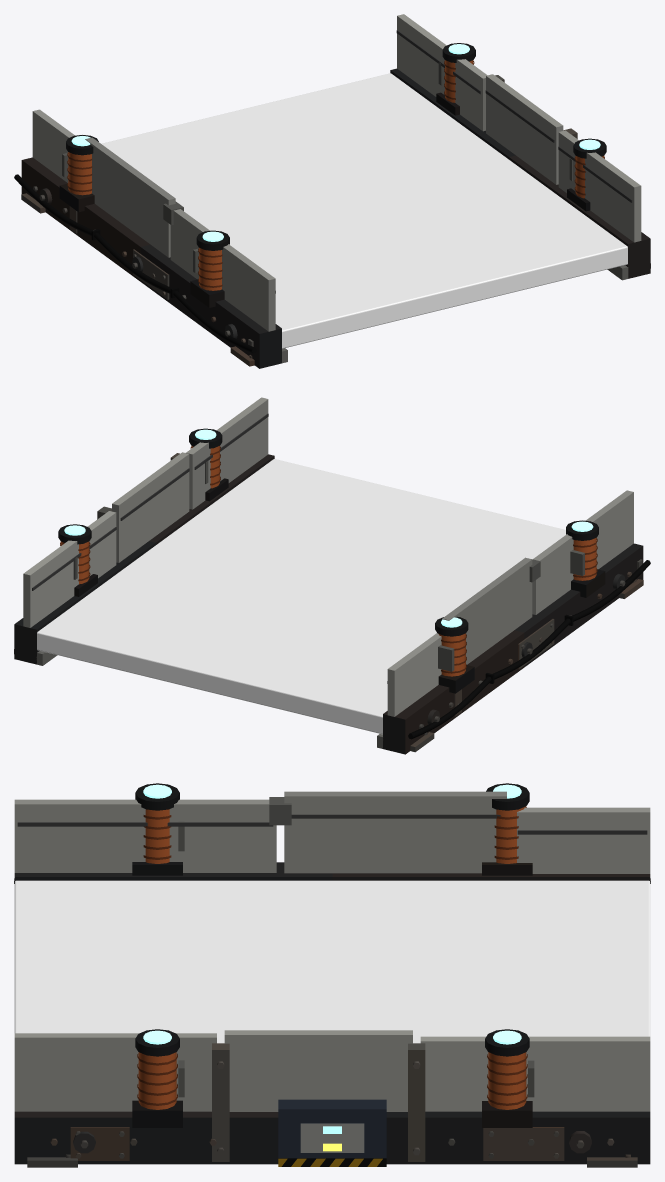
Rendered from conveyor_mag_straight.glb.
The picture shows the model from 3 angles, top to bottom: view 1: azimuth 30°, elevation 25°; view 2: azimuth 150°, elevation 25°; view 3: azimuth 270°, elevation 25°; orthographic projection. The views are drawn at different scales.
Parts seen in each view (by area): view 1: Belt, Frame, Glow; view 2: Belt, Frame, Glow; view 3: Frame, Belt, Glow.
Boxes of the visible parts, <box> form: Belt: <box>101,73,627,348</box>; Frame: <box>14,14,650,368</box>; Glow: <box>71,44,600,241</box>; Belt: <box>37,459,565,734</box>; Frame: <box>14,397,650,754</box>; Glow: <box>64,429,593,627</box>; Frame: <box>14,783,650,1167</box>; Belt: <box>14,880,650,1043</box>; Glow: <box>143,784,521,1133</box>.
Size of the model in its own units: 1.99 by 0.4298 by 2.
